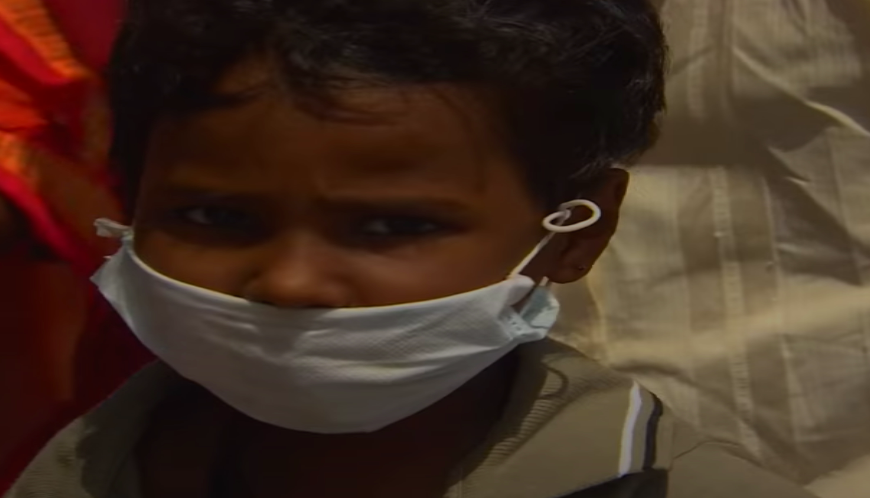mask_weared_incorrect: (87, 7, 618, 436)
